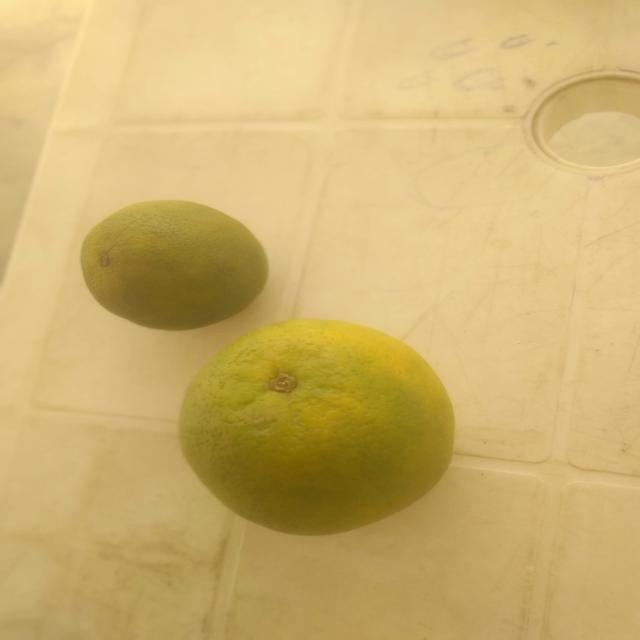Unripe: (154, 318, 486, 543), (71, 188, 264, 334)
